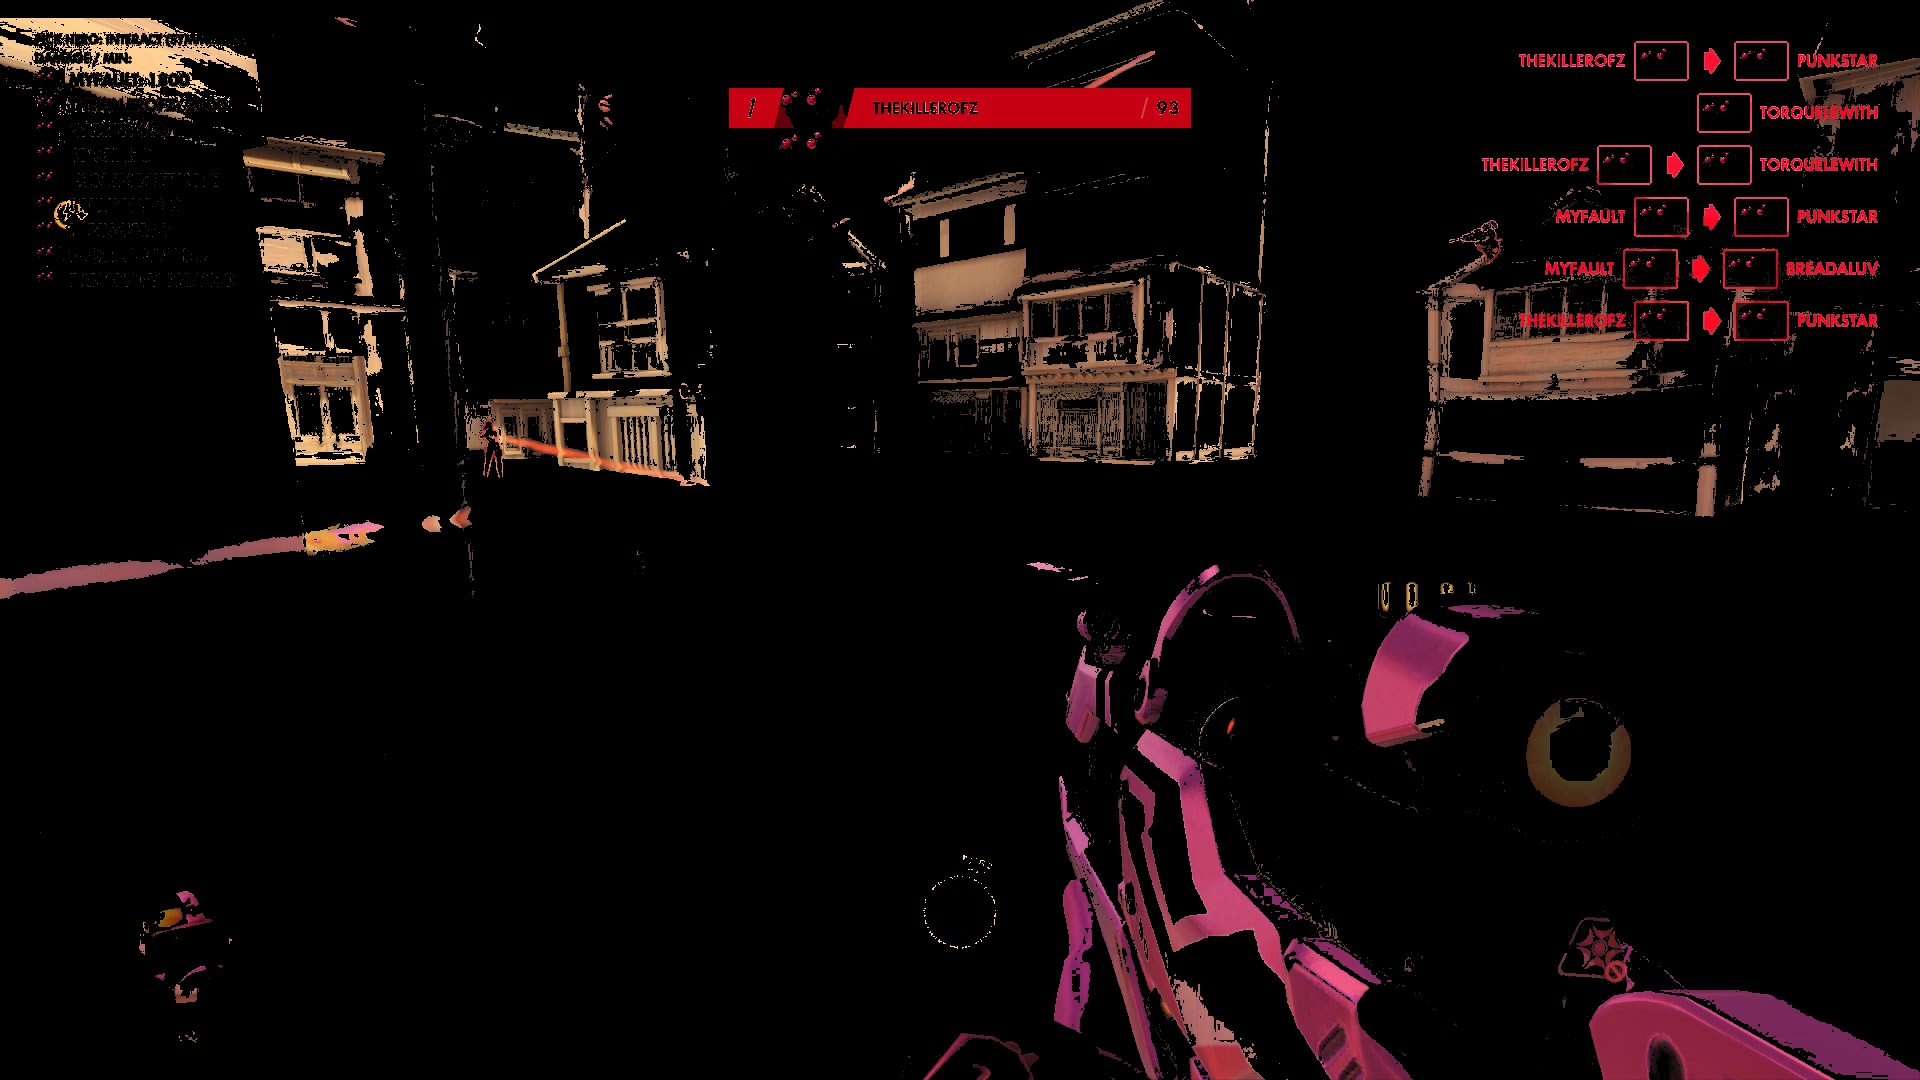widowmaker: (473, 417, 512, 491)
